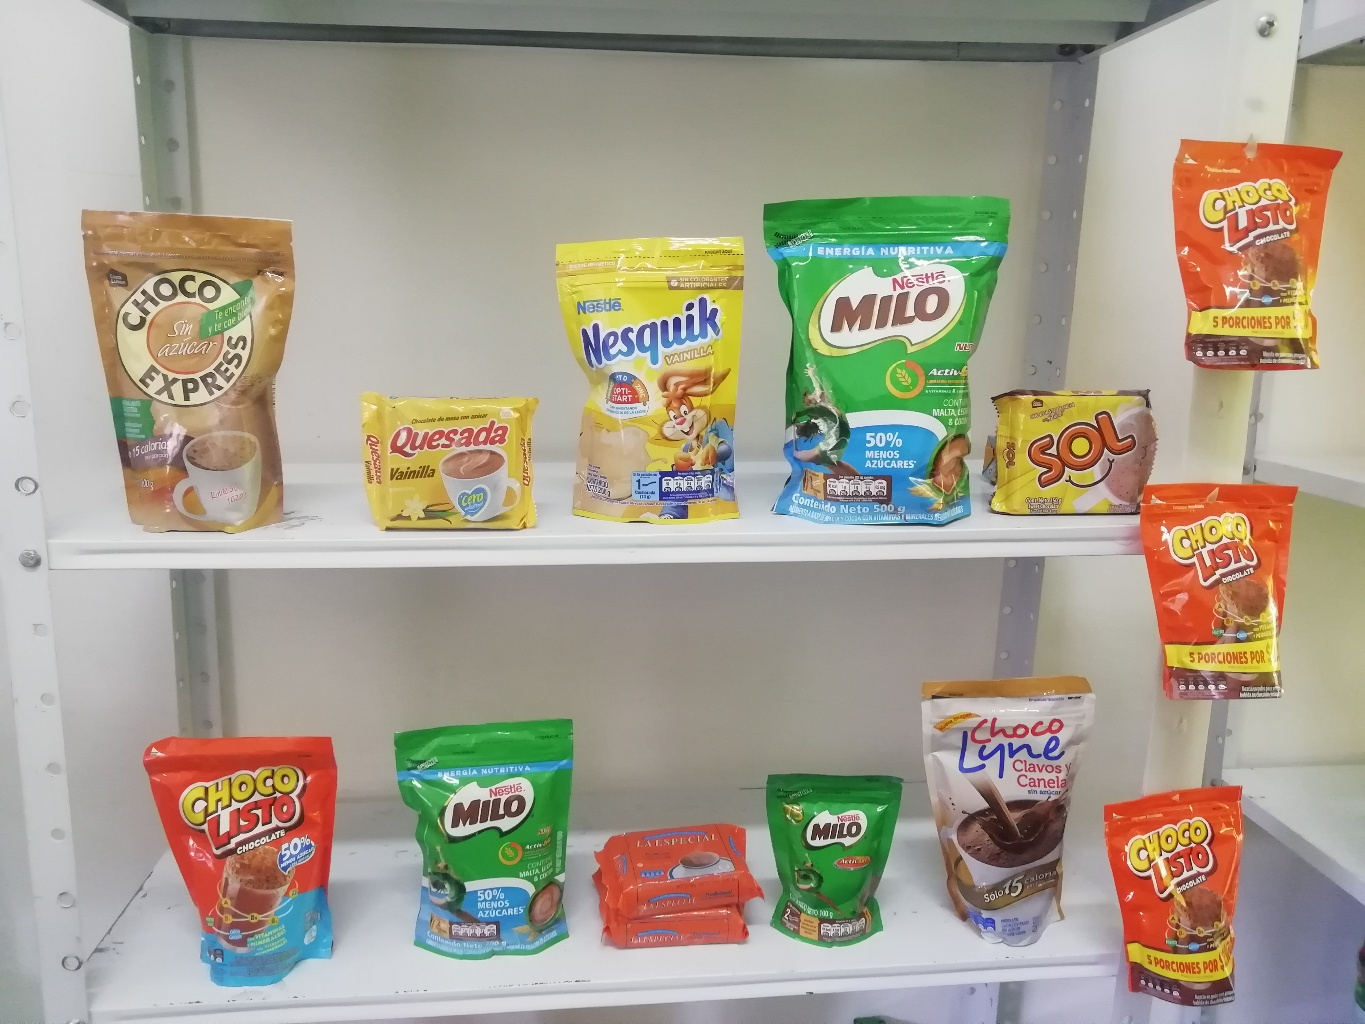COL0170104DYP20000: (123, 722, 353, 994)
COL0170203DYP10000: (763, 763, 924, 956)
COL0170205DYP20000: (383, 716, 599, 964)
COL0170205DYP50000: (760, 187, 1016, 524)
COL0170306DYP20000: (551, 221, 763, 531)
